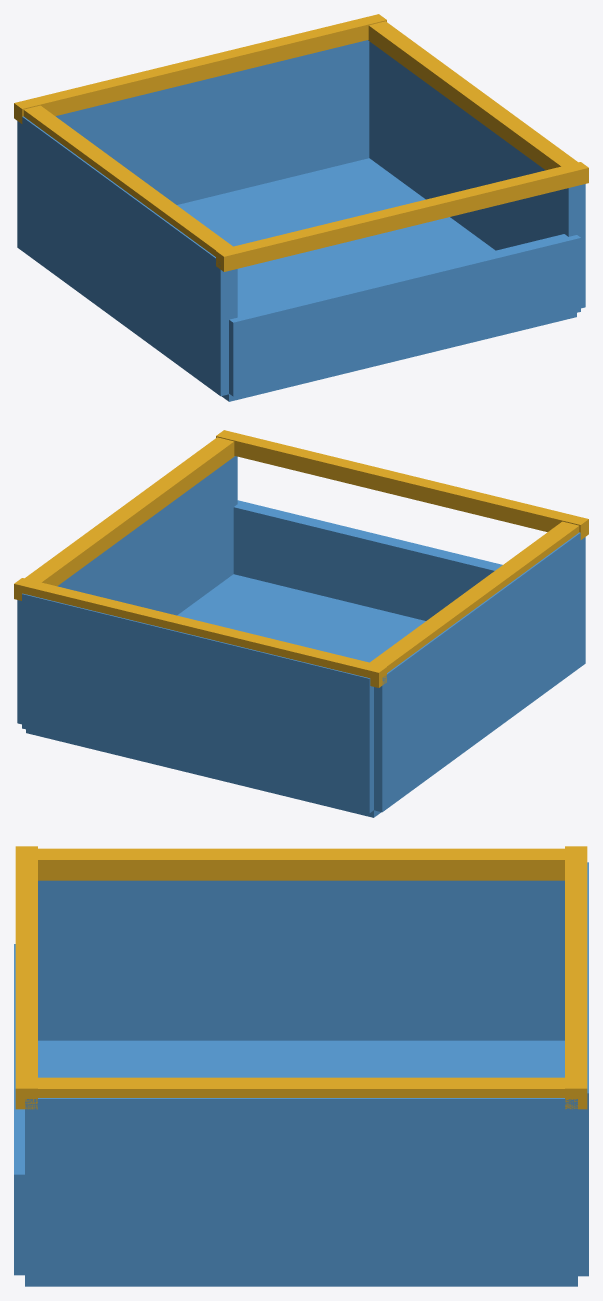
File: dumper_trough.glb
The picture shows the model from 3 angles, top to bottom: view 1: azimuth 30°, elevation 25°; view 2: azimuth 150°, elevation 25°; view 3: azimuth 270°, elevation 25°; orthographic projection. The views are drawn at different scales.
Visible parts, largest first — view 1: dumper_trough; view 2: dumper_trough; view 3: dumper_trough.
Boxes of the visible parts, box(x1,y1,x2,y2) form: dumper_trough: box(14, 14, 588, 401); dumper_trough: box(14, 430, 588, 817); dumper_trough: box(14, 846, 588, 1286).
Bounding box in the file's own units: 1.25 × 0.49 × 1.25.
